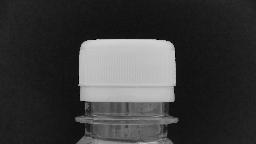Loose Cap: (72, 83, 180, 126)
